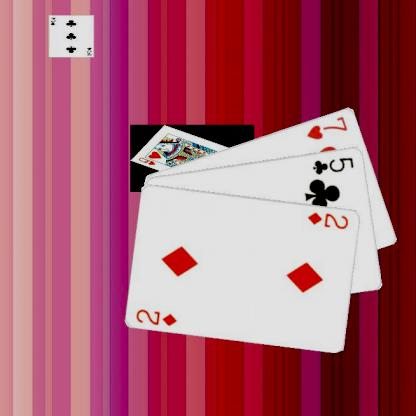2D: (133, 306, 178, 327), (306, 210, 350, 230)
5C: (310, 154, 355, 175)
7H: (304, 113, 350, 141)
